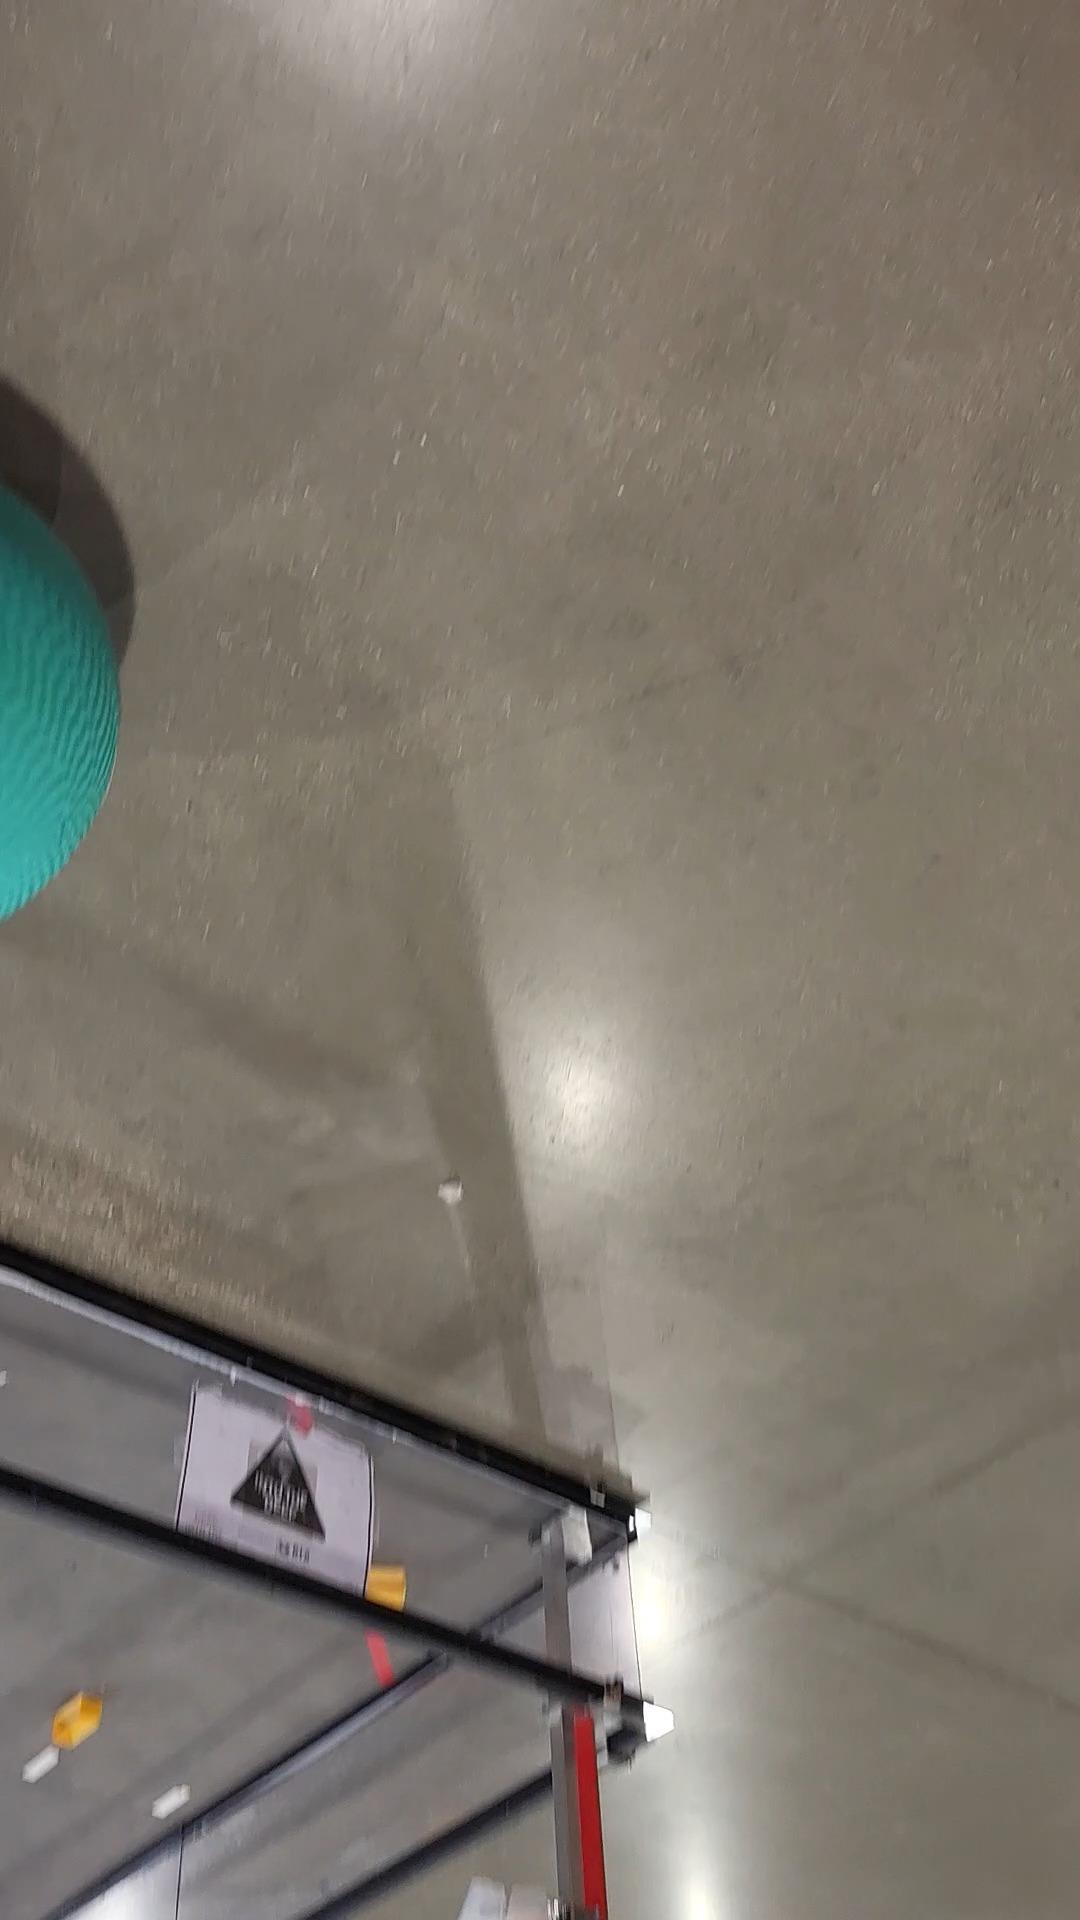algae: (0, 444, 146, 930)
